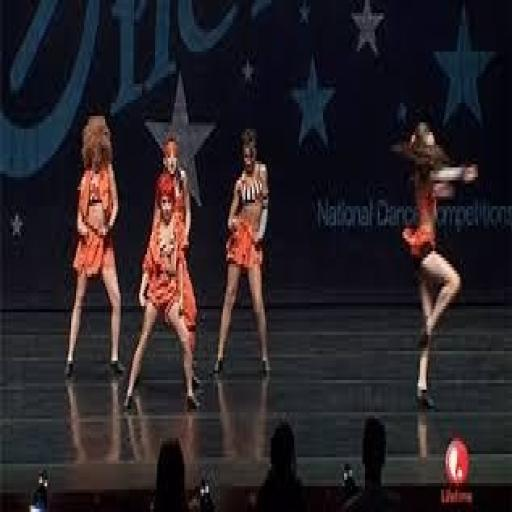dancing: (390, 106, 482, 416), (62, 110, 128, 386), (210, 122, 275, 390)
